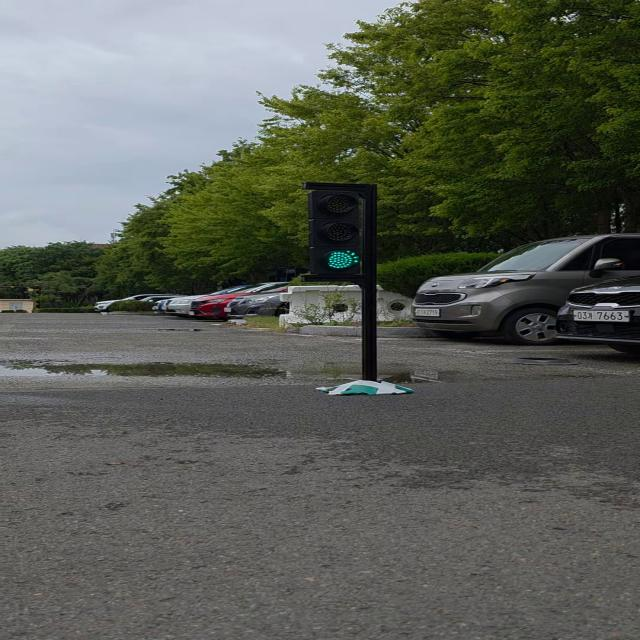green: (311, 183, 373, 281)
